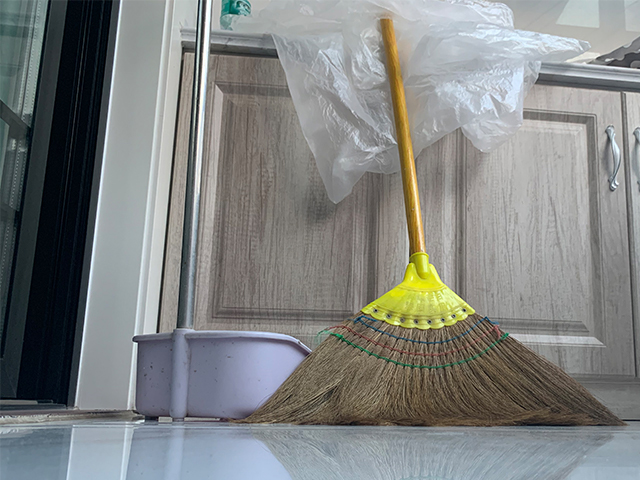cabinet: (157, 26, 640, 421)
